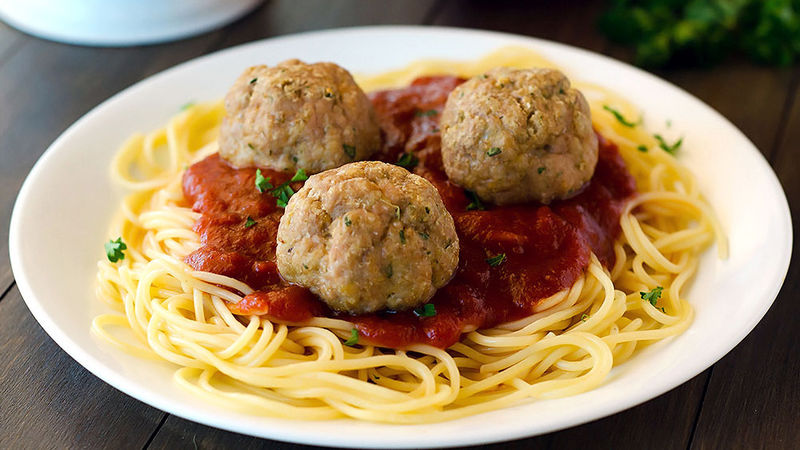meatballs: (240, 61, 593, 300)
plain spaghetti: (100, 79, 704, 398)
